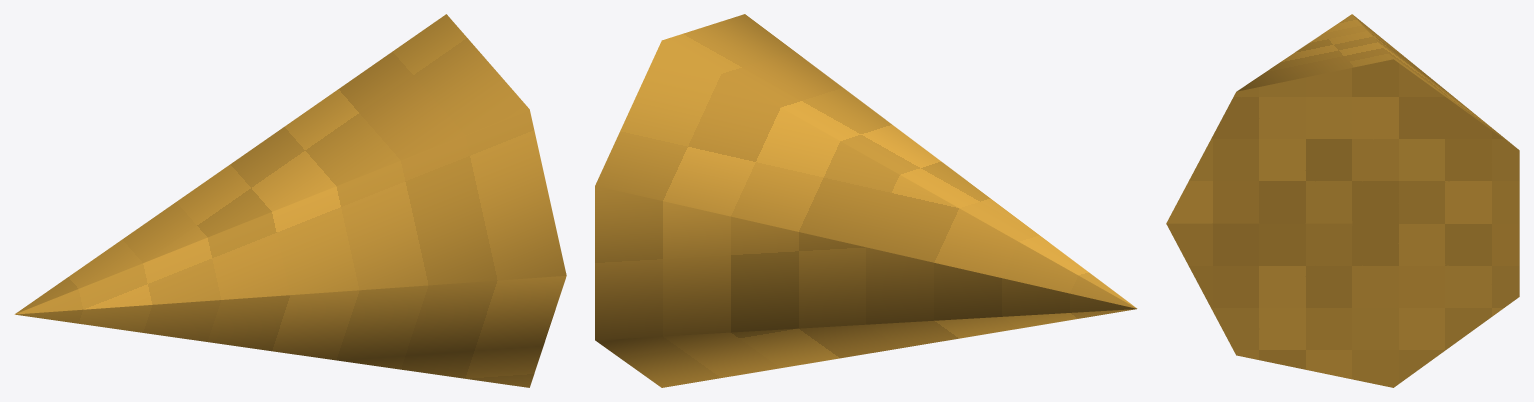
The model's file is cuerno.glb.
3 renders of one model, left to right at view 1: azimuth 30°, elevation 25°; view 2: azimuth 150°, elevation 25°; view 3: azimuth 270°, elevation 25°, orthographic. The views are drawn at different scales.
Visible parts, largest first — view 1: cuerno; view 2: cuerno; view 3: cuerno.
Part boxes in pixels (left/top/right/bottom): cuerno: left=14, top=14, right=566, bottom=387; cuerno: left=595, top=14, right=1137, bottom=387; cuerno: left=1166, top=14, right=1519, bottom=387.
Bounding box in the file's own units: 0.8 × 0.585 × 0.5703.
Materials: 1 (1 with a texture image).
